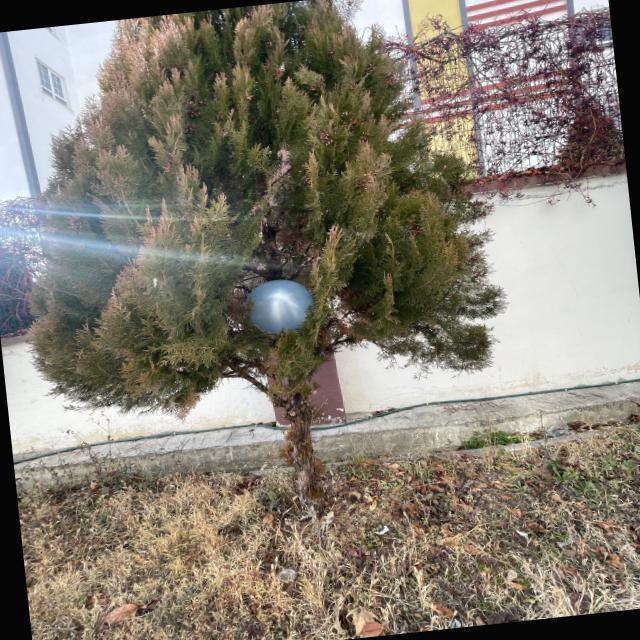balloon: (247, 279, 313, 332)
